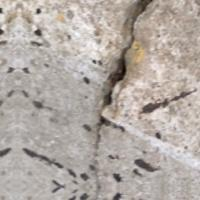crack: (88, 2, 158, 165)
